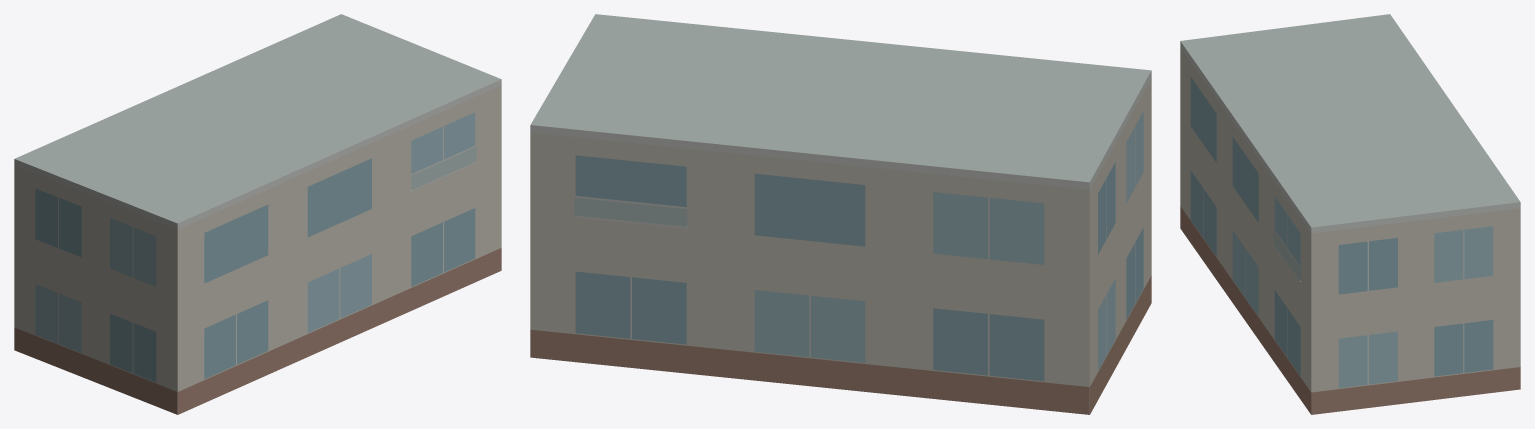
File: survey-upis-32891837.glb
3 renders of one model, left to right at view 1: azimuth 30°, elevation 25°; view 2: azimuth 150°, elevation 25°; view 3: azimuth 270°, elevation 25°, orthographic. The views are drawn at different scales.
Visible parts, largest first — view 1: survey-upis-32891837.tmp; view 2: survey-upis-32891837.tmp; view 3: survey-upis-32891837.tmp.
Part boxes in pixels (x1,y1,x2,y2): survey-upis-32891837.tmp: (14,14,501,414); survey-upis-32891837.tmp: (530,14,1151,414); survey-upis-32891837.tmp: (1180,14,1520,414).
Size of the model in its own units: 18.6 by 7.6 by 12.53.
